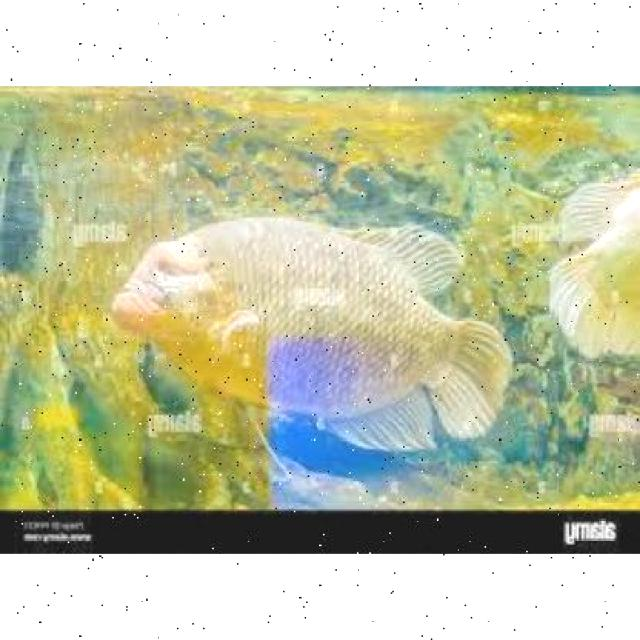gurame: (112, 215, 510, 452)
